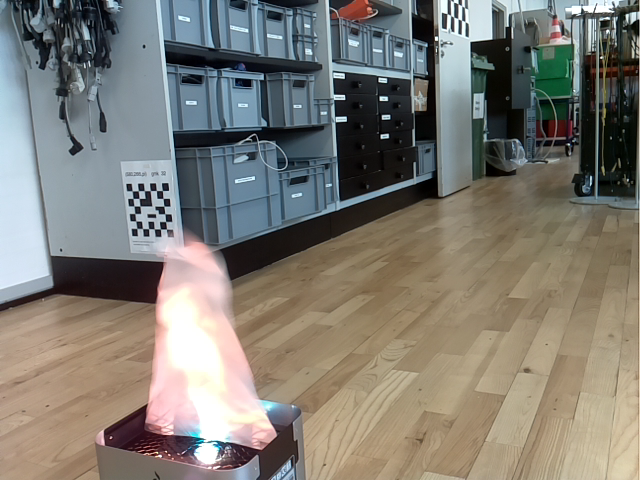fire: (143, 228, 277, 450)
